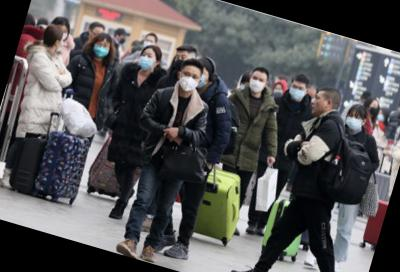with_mask: (176, 68, 202, 93), (170, 51, 193, 75), (136, 50, 158, 72), (343, 110, 365, 132), (91, 38, 113, 59), (287, 82, 308, 103), (247, 73, 268, 94), (142, 36, 157, 52), (367, 100, 381, 117), (55, 39, 66, 56), (58, 27, 71, 41), (117, 32, 127, 44)
without_mask: (309, 91, 329, 117)
